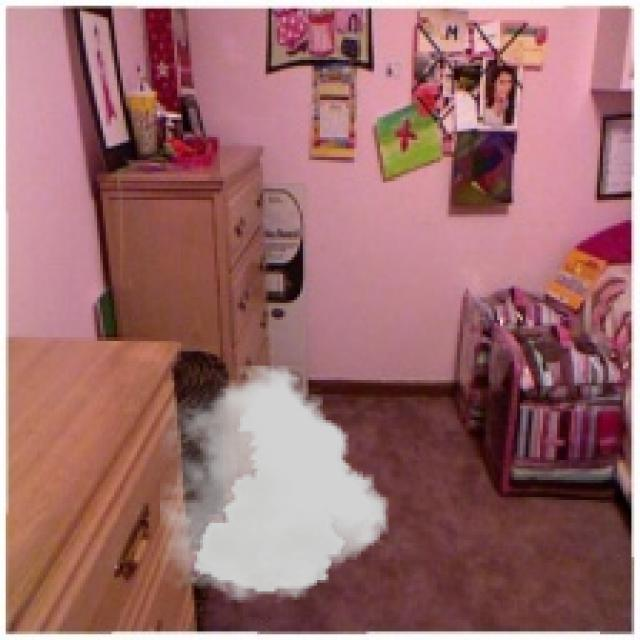smoke: (160, 366, 389, 603)
